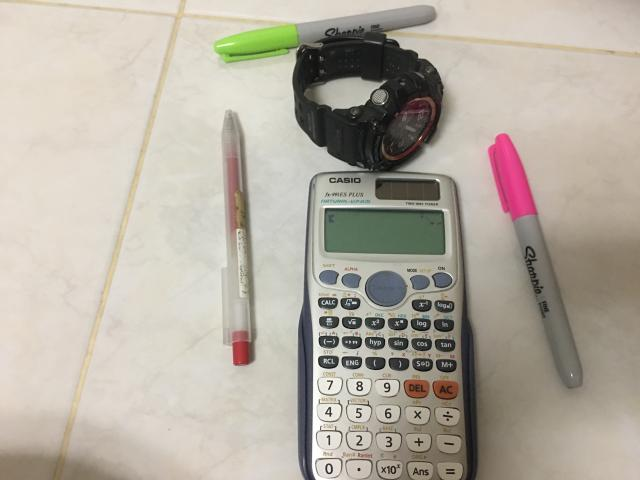Pen: (489, 134, 582, 388), (214, 5, 436, 63), (221, 110, 251, 365)
Watch: (292, 32, 444, 170)
